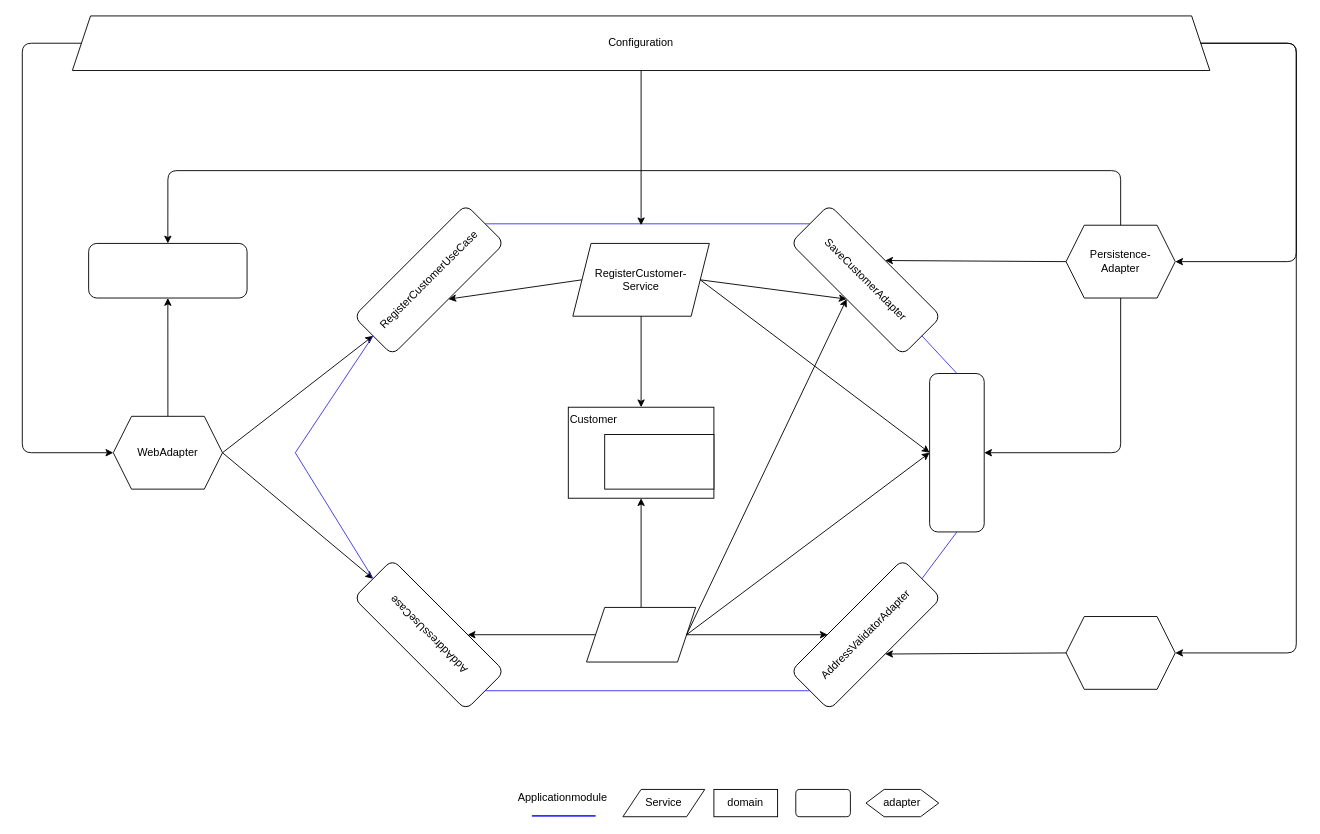
This 1320x834 diagram has some shape labels left out. Each missing label, with the centre of its shape:
"Address" belongs at (659,461).
"AddressService" belongs at (641,634).
"AddressValidation- Adapter" belongs at (1120,652).
"GetAllCustomersCRUD" belongs at (167,270).
"LoadCustomerAdapter" belongs at (956,452).
"ports" belongs at (822,803).
